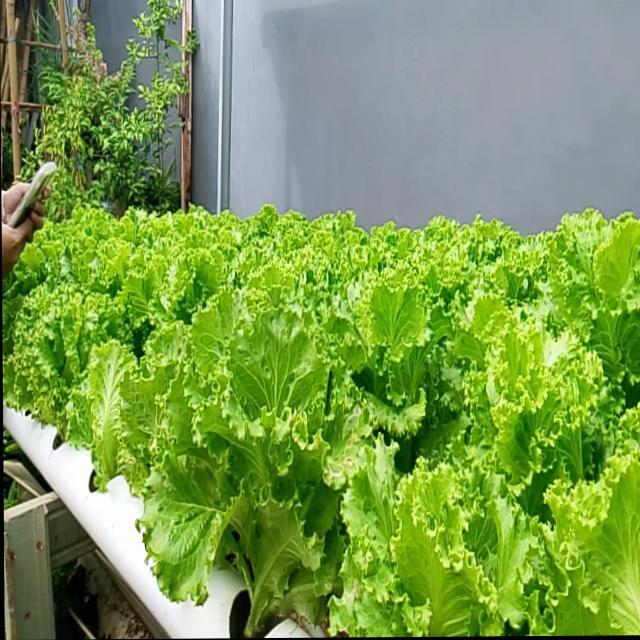Mature: (2, 210, 640, 638), (167, 326, 363, 629), (2, 256, 146, 475)
